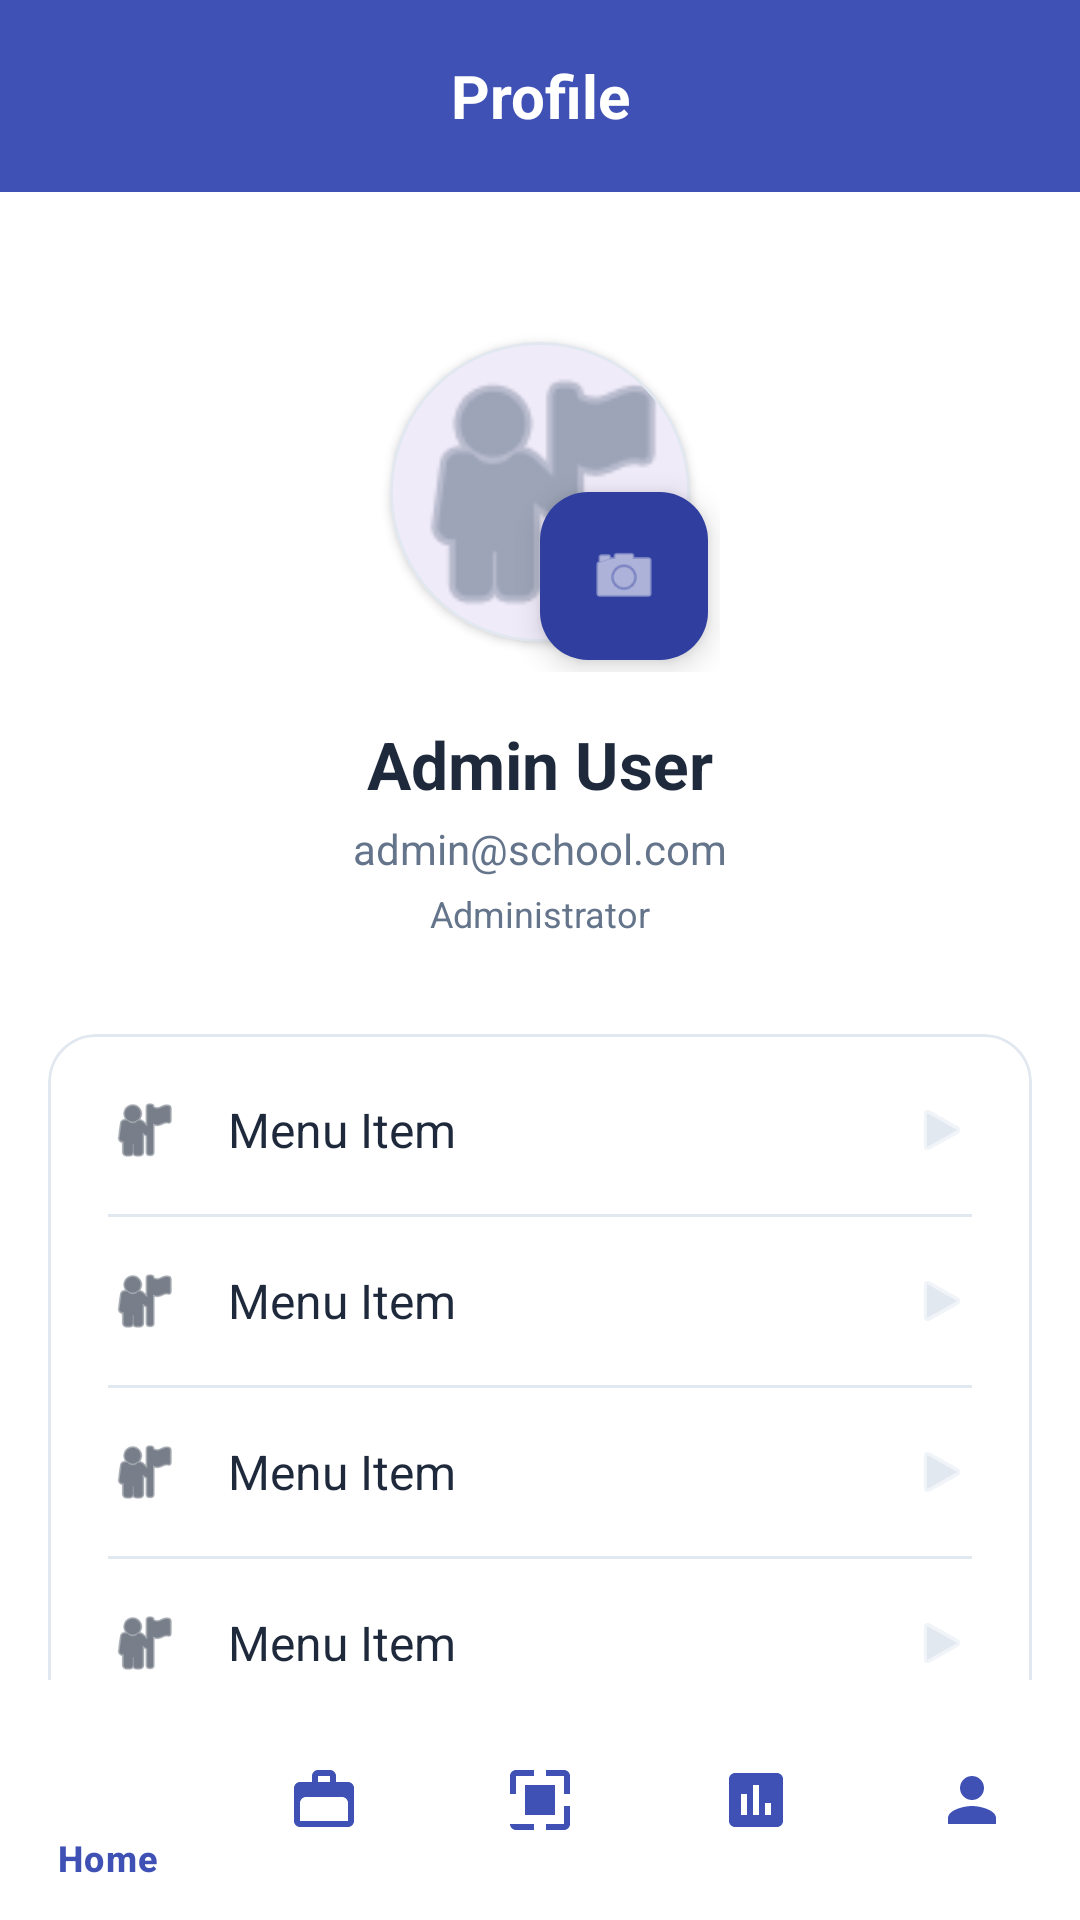

Icons on this 1080x1920 Android screen, each with its box as (x1, y1, x2, y2):
myplaces: (118, 1103, 172, 1157), (118, 1274, 172, 1328), (118, 1445, 172, 1499), (118, 1616, 172, 1670)
play: (927, 1113, 956, 1147), (927, 1284, 956, 1318), (927, 1455, 956, 1489), (927, 1626, 956, 1660)
